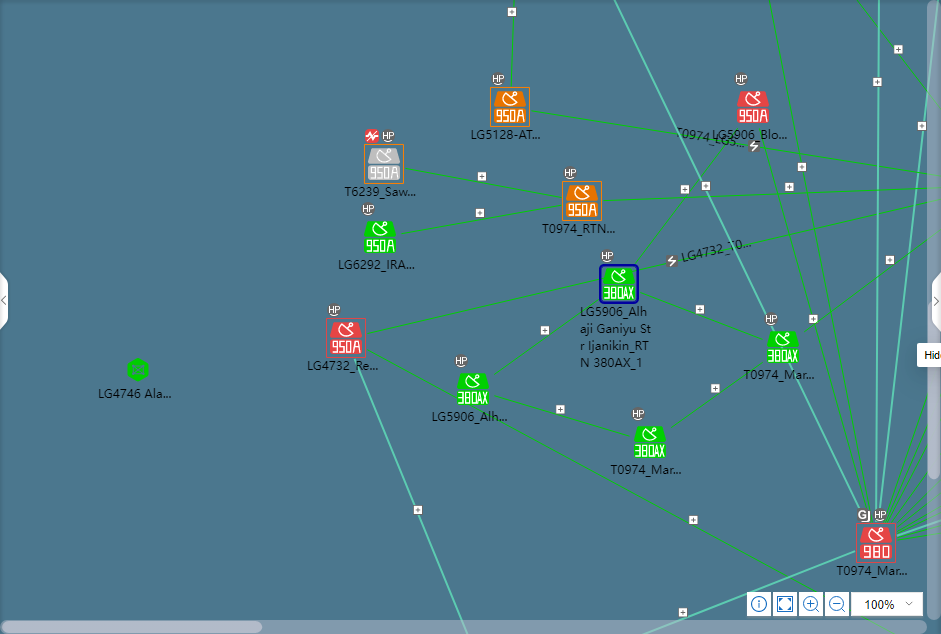Link_Blue: (610, 0, 775, 330), (352, 359, 469, 634), (879, 0, 939, 509), (643, 550, 855, 634), (787, 363, 861, 509), (875, 0, 880, 511), (895, 519, 941, 538)
Link_Green: (369, 349, 817, 593), (766, 1, 871, 509), (756, 128, 869, 510), (531, 108, 941, 177), (641, 196, 941, 272), (800, 228, 941, 339), (634, 128, 741, 263), (367, 278, 597, 336), (492, 299, 598, 379), (854, 0, 926, 94), (671, 359, 764, 430), (640, 291, 760, 342), (603, 185, 941, 203), (497, 395, 630, 440), (882, 392, 927, 522), (404, 165, 560, 200), (397, 204, 561, 236), (886, 426, 927, 522), (887, 443, 928, 522), (891, 471, 927, 522), (895, 491, 927, 525), (895, 501, 927, 531), (508, 0, 516, 87), (895, 525, 941, 539), (895, 514, 927, 534), (895, 518, 927, 535), (896, 532, 940, 542)
RTN_Gray: (367, 147, 400, 181)
RTN_Green: (600, 267, 636, 301), (634, 427, 665, 459), (364, 222, 395, 253), (457, 374, 488, 405), (767, 332, 798, 363)
RTN_Orange: (491, 89, 528, 124), (564, 184, 599, 219)
RTN_Red: (327, 319, 364, 356), (859, 528, 892, 561), (737, 91, 768, 123)
